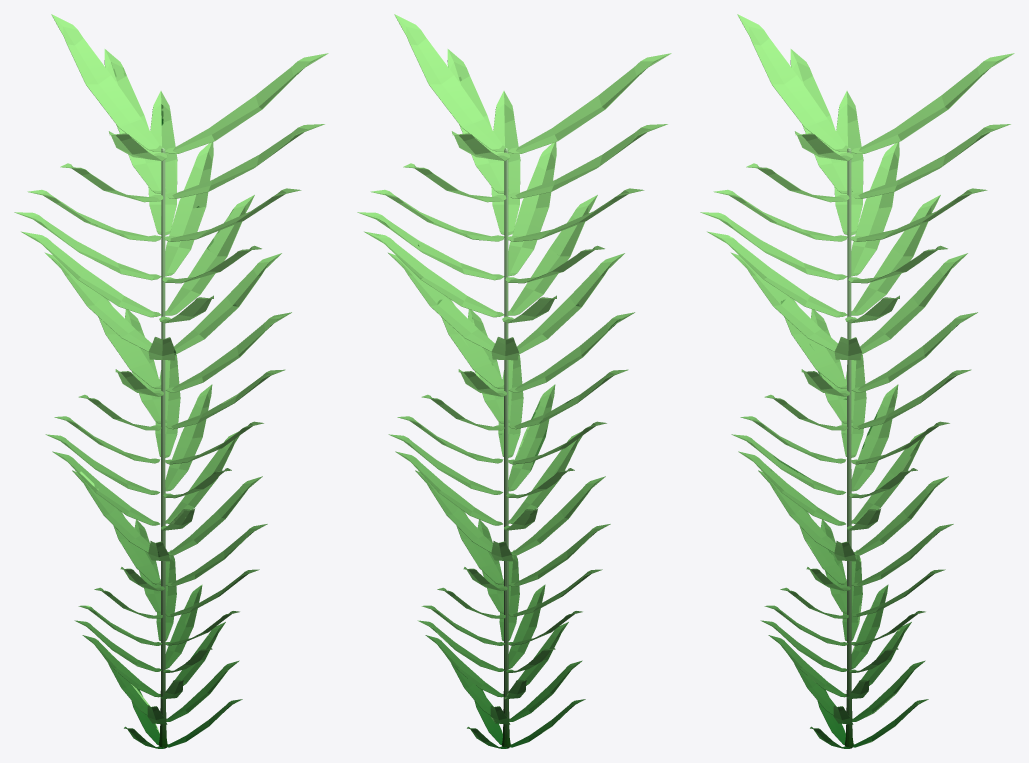
The model's file is Kelp_01.fbx.
3 renders of one model, left to right at view 1: azimuth 30°, elevation 25°; view 2: azimuth 150°, elevation 25°; view 3: azimuth 270°, elevation 25°, orthographic.
Parts seen in each view (by area): view 1: Leaves, Leaves.002, Leaves.001, KelpStalk; view 2: Leaves.001, Leaves, Leaves.002, KelpStalk; view 3: Leaves.002, Leaves.001, Leaves, KelpStalk.
Part boxes in pixels (bbox=[...]): Leaves: bbox=[51, 14, 291, 745]; Leaves.002: bbox=[14, 131, 267, 748]; Leaves.001: bbox=[45, 53, 328, 747]; KelpStalk: bbox=[159, 148, 167, 748]; Leaves.001: bbox=[394, 14, 634, 745]; Leaves: bbox=[357, 131, 610, 748]; Leaves.002: bbox=[388, 53, 671, 747]; KelpStalk: bbox=[502, 148, 510, 748]; Leaves.002: bbox=[737, 14, 977, 745]; Leaves.001: bbox=[700, 131, 953, 748]; Leaves: bbox=[731, 53, 1014, 747]; KelpStalk: bbox=[845, 148, 853, 748].
Size of the model in its own units: 931 by 2195 by 919.
